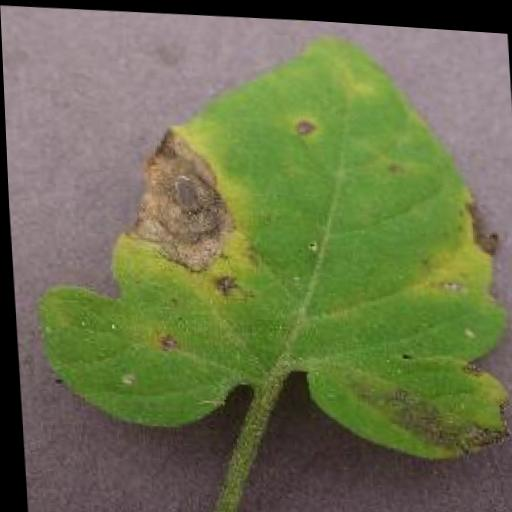Septoria: (15, 9, 512, 469)
